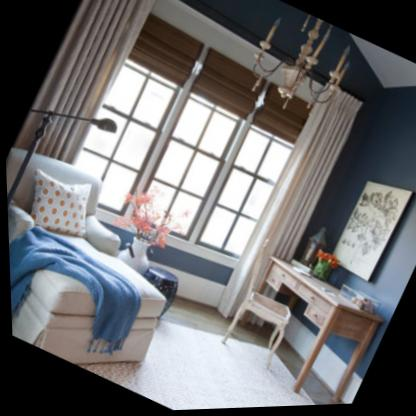Curtains: (213, 87, 361, 323), (12, 0, 156, 167)
